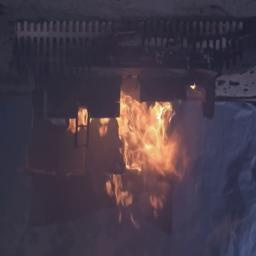fire: (102, 103, 192, 221)
